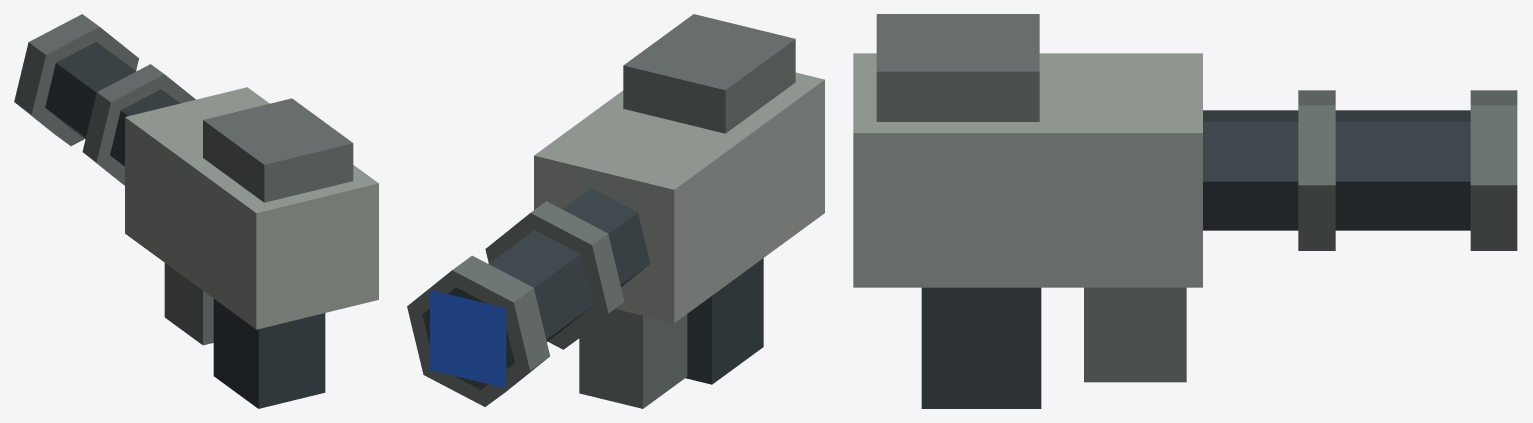
3 views of the same model, side by side, from view 1: azimuth 30°, elevation 25°; view 2: azimuth 150°, elevation 25°; view 3: azimuth 270°, elevation 25° (orthographic). The views are drawn at different scales.
Parts seen in each view (by area): view 1: mount; view 2: mount; view 3: mount.
Boxes of the visible parts, <box> form: mount: <box>14,14,378,408</box>; mount: <box>407,14,824,408</box>; mount: <box>853,14,1517,408</box>.
Bounding box in the file's own units: 4.84 × 9.79 × 17.13.
